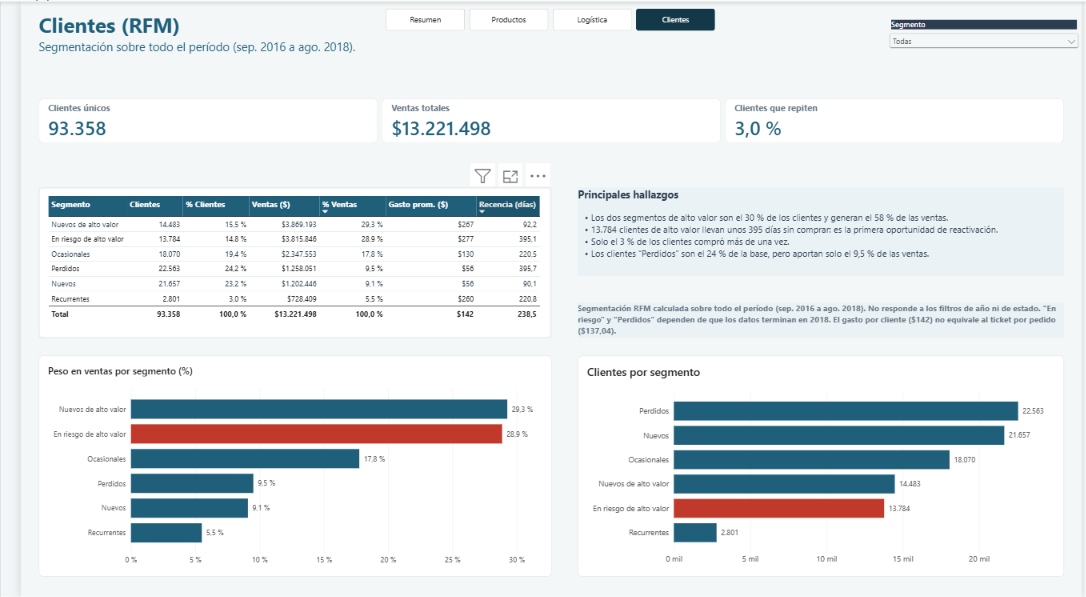

The dashboard page shown, as its layout file describes it:
{"tool":"powerbi","page":{"name":"Clientes","canvas":[1920,1080],"ordinal":3},"visuals":[{"type":"cardVisual","fields":{"Data":["rfm_clientes.Clientes RFM","rfm_clientes.Ventas RFM","rfm_clientes.% Repiten"]},"box":[32,176,1856,80],"z":0},{"type":"clusteredBarChart","title":"Clientes por segmento","fields":{"Category":["rfm_clientes.segmento"],"Y":["rfm_clientes.Clientes RFM"]},"box":[1008,640,880,400],"z":1000},{"type":"clusteredBarChart","title":"Peso en ventas por segmento (%)","fields":{"Category":["rfm_clientes.segmento"],"Y":["rfm_clientes.% Ventas"]},"box":[32,640,928,400],"z":2000},{"type":"tableEx","fields":{"Values":["rfm_clientes.segmento","rfm_clientes.Clientes RFM","rfm_clientes.% Clientes","rfm_clientes.Ventas RFM","rfm_clientes.% Ventas","rfm_clientes.Monto Prom","rfm_clientes.Recencia Prom"]},"box":[32,336,928,272],"z":3000},{"type":"slicer","fields":{"Values":["rfm_clientes.segmento"]},"box":[1568,32,352,80],"z":4000},{"type":"textbox","box":[1008,336,880,160],"z":5000},{"type":"pageNavigator","box":[660,12,596,40],"z":6000},{"type":"textbox","box":[32,16,592,96],"z":7000},{"type":"textbox","box":[1008,544,880,64],"z":8000}]}

Visuals, with their boxes in screenshot pixels (x1, y1, x2, y2), scaled from the page's 1920x1080 canvas onto the 1086x597 screenshot:
cardVisual - rfm_clientes.Clientes RFM x rfm_clientes.Ventas RFM: left=18, top=97, right=1068, bottom=142
"Clientes por segmento" clusteredBarChart: left=570, top=354, right=1068, bottom=575
"Peso en ventas por segmento (%)" clusteredBarChart: left=18, top=354, right=543, bottom=575
tableEx - rfm_clientes.segmento x rfm_clientes.Clientes RFM: left=18, top=186, right=543, bottom=336
slicer - rfm_clientes.segmento: left=887, top=18, right=1085, bottom=62
textbox: left=570, top=186, right=1068, bottom=274
pageNavigator: left=373, top=7, right=710, bottom=29
textbox: left=18, top=9, right=353, bottom=62
textbox: left=570, top=301, right=1068, bottom=336
